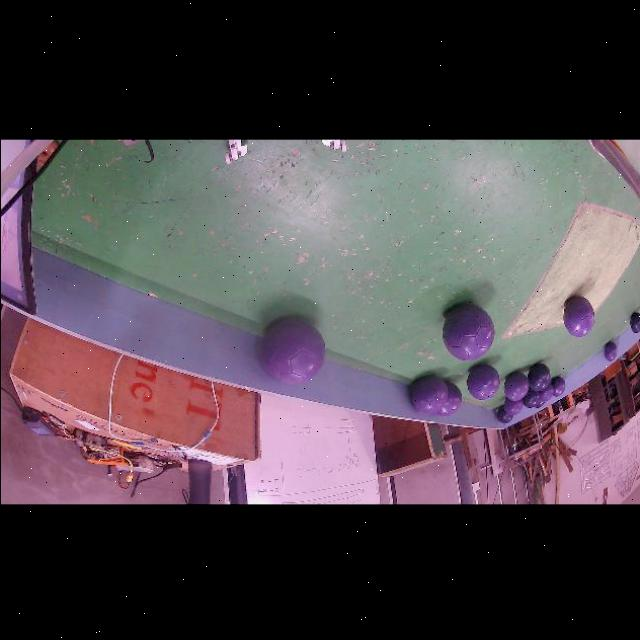B: (526, 363, 549, 389), (521, 387, 539, 407), (496, 405, 512, 422), (629, 311, 640, 332)
P: (261, 317, 324, 383), (442, 303, 493, 359), (410, 374, 461, 416), (562, 294, 593, 336), (466, 363, 498, 399), (502, 370, 528, 399), (502, 397, 523, 415), (550, 375, 564, 396), (538, 382, 553, 401), (604, 340, 616, 360)
